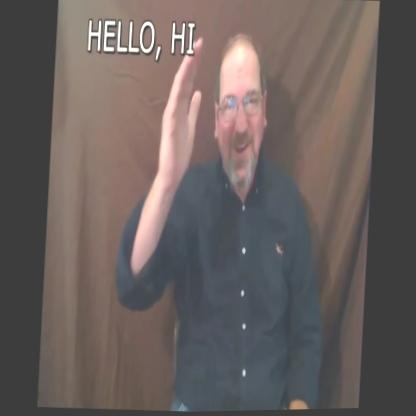Hello: (145, 6, 284, 239)
